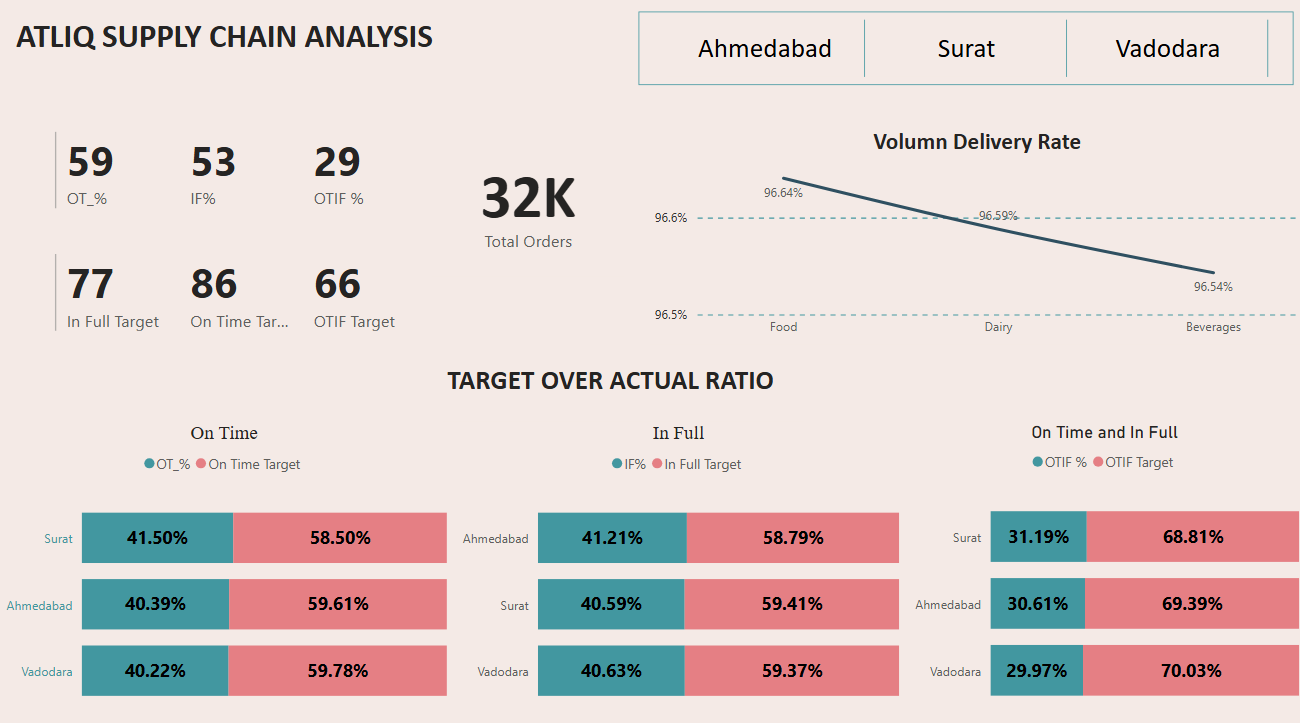

This screenshot's page, from the dashboard's own definition file:
{"tool":"powerbi","page":{"name":"Demographic Breakdown","canvas":[1280,720],"ordinal":1},"visuals":[{"type":"hundredPercentStackedBarChart","title":"On Time","fields":{"Category":["dim_customers.city"],"Y":["Measure.OT_%","Measure.On Time Target"]},"box":[0,418.2,446.3,302],"z":0},{"type":"hundredPercentStackedBarChart","title":"In Full ","fields":{"Category":["dim_customers.city"],"Y":["Measure.IF%","Measure.In Full Target"]},"box":[446.3,418.2,442.7,302],"z":1000},{"type":"hundredPercentStackedBarChart","title":"On Time and In Full","fields":{"Category":["dim_customers.city"],"Y":["Measure.OTIF %","Measure.OTIF Target"]},"box":[889,418.2,391.3,302],"z":2000},{"type":"textbox","box":[14.7,17.1,584.5,72.1],"z":3000},{"type":"multiRowCard","fields":{"Values":["Measure.In Full Target","Measure.On Time Target","Measure.OTIF Target"]},"box":[52.6,249.5,384,94.2],"z":4000},{"type":"card","fields":{"Values":["Measure.Total Orders"]},"box":[426.8,129.6,188.3,146.7],"z":5000},{"type":"slicer","fields":{"Values":["dim_customers.city"]},"box":[628.5,17.1,640.8,72.1],"z":6000},{"type":"textbox","box":[436.6,355.8,354.6,62.4],"z":7000},{"type":"multiRowCard","fields":{"Values":["Measure.OT_%","Measure.IF%","Measure.OTIF %"]},"box":[52.6,129.6,384,94.2],"z":8000},{"type":"lineChart","title":"Volumn Delivery Rate","fields":{"Category":["dim_products.category"],"Y":["Measure.VOFR_%"]},"box":[639.5,129.6,640.8,214],"z":9000}]}

Visuals, with their boxes in screenshot pixels (x1, y1, x2, y2), scaled from the page's 1280x720 canvas onto the 1300x723 screenshot:
"On Time" hundredPercentStackedBarChart: 0/420/453/722
"In Full " hundredPercentStackedBarChart: 453/420/903/722
"On Time and In Full" hundredPercentStackedBarChart: 903/420/1299/722
textbox: 15/17/609/90
multiRowCard - Measure.In Full Target x Measure.On Time Target: 53/251/443/345
card - Measure.Total Orders: 433/130/625/277
slicer - dim_customers.city: 638/17/1289/90
textbox: 443/357/804/420
multiRowCard - Measure.OT_% x Measure.IF%: 53/130/443/225
"Volumn Delivery Rate" lineChart: 649/130/1299/345
